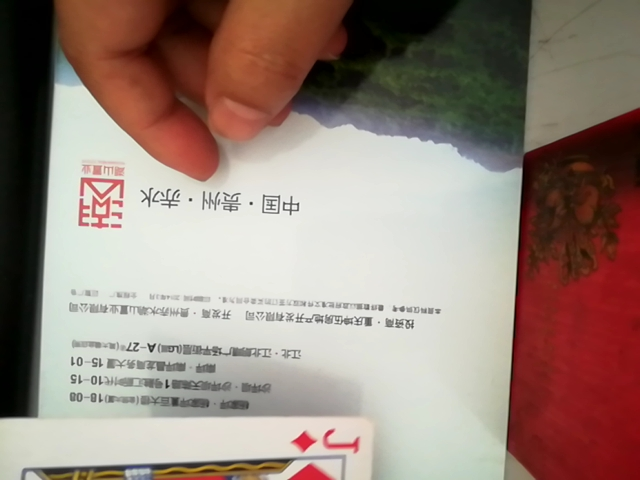fk j: (0, 410, 397, 478)
